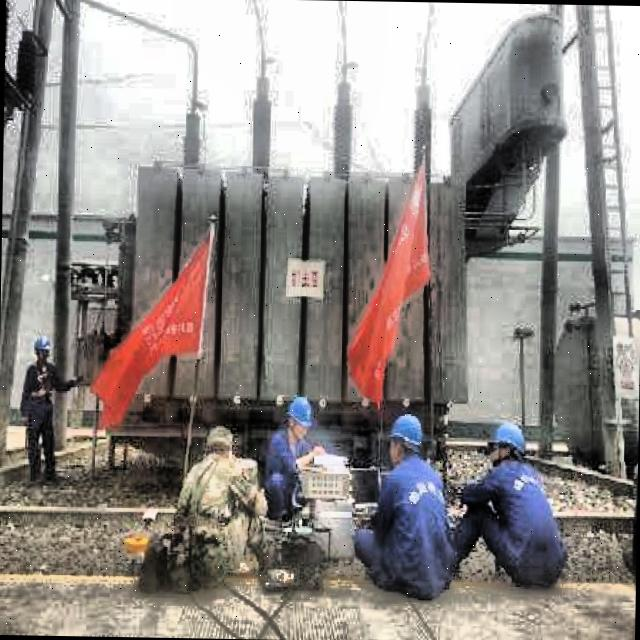helmet: (385, 409, 426, 464), (485, 421, 529, 471), (284, 390, 318, 440), (31, 333, 52, 371)
